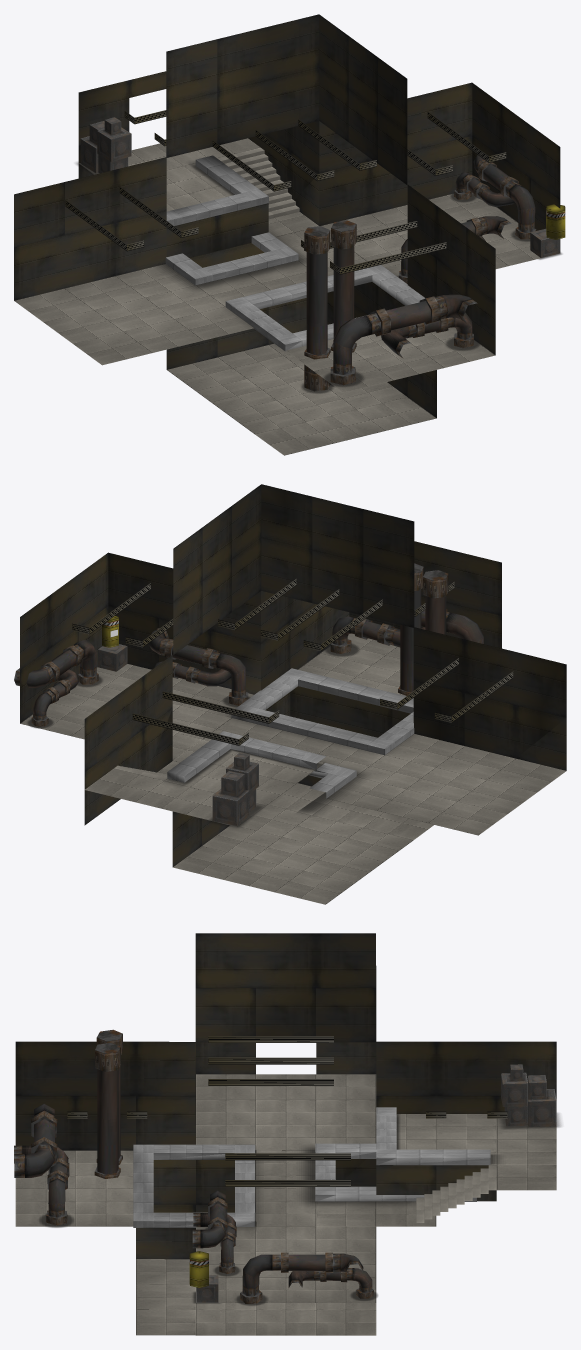
The model's file is room_5.glb.
3 views of the same model, one above another, from view 1: azimuth 30°, elevation 25°; view 2: azimuth 150°, elevation 25°; view 3: azimuth 270°, elevation 25° (orthographic). The views are drawn at different scales.
Visible parts, largest first — view 1: wall, floor, floor2, Border3, LargeStraightPipe2 (×2), platform_wall, Border1, Border2, LargePipe1Elbow2 (×2), stairs, new_End5 (×2), Shadow1 (+12 smaller); view 2: wall, floor, floor2, Border3, Border1, LargeStraightPipe2 (×2), LargePipe1Elbow2 (×2), F1MetalBox5, Border2, LargePipe2Elbow2, Lights10, Lights9 (+12 smaller); view 3: wall, floor, floor2, Border3, Border1, platform_wall, Border2, LargeStraightPipe2, stairs, Shadow1, LargePipe1Elbow1, Lights3 (+12 smaller).
Part boxes in pixels (<box>): wall: <box>14,14,560,417</box>; floor: <box>14,138,559,392</box>; floor2: <box>167,343,436,455</box>; Border3: <box>225,265,425,351</box>; LargeStraightPipe2 (×2): <box>306,247,354,354</box>; platform_wall: <box>166,203,268,257</box>; Border1: <box>166,155,268,225</box>; Border2: <box>165,232,298,285</box>; LargePipe1Elbow2 (×2): <box>333,181,535,374</box>; stairs: <box>217,147,299,218</box>; new_End5 (×2): <box>304,220,356,254</box>; Shadow1: <box>158,230,306,289</box>; wall: <box>20,484,566,866</box>; floor: <box>20,633,566,835</box>; floor2: <box>173,783,433,904</box>; Border3: <box>231,668,414,755</box>; Border1: <box>167,731,326,782</box>; LargeStraightPipe2 (×2): <box>400,590,446,691</box>; LargePipe1Elbow2 (×2): <box>73,611,483,676</box>; F1MetalBox5: <box>212,788,249,825</box>; Border2: <box>309,763,356,798</box>; LargePipe2Elbow2: <box>209,651,245,698</box>; Lights10: <box>162,691,279,723</box>; Lights9: <box>132,713,248,745</box>; wall: <box>15,933,556,1259</box>; floor: <box>15,1074,556,1302</box>; floor2: <box>136,1259,376,1335</box>; Border3: <box>133,1144,255,1227</box>; Border1: <box>376,1107,490,1165</box>; platform_wall: <box>376,1165,496,1201</box>; Border2: <box>315,1143,476,1201</box>; LargeStraightPipe2: <box>97,1069,118,1174</box>; stairs: <box>416,1165,496,1222</box>; Shadow1: <box>301,1146,415,1205</box>; LargePipe1Elbow1: <box>14,1144,54,1177</box>; Lights3: <box>208,1057,333,1064</box>.
Size of the model in its own units: 139 by 89.75 by 138.
Materials: 15 (14 with a texture image).
